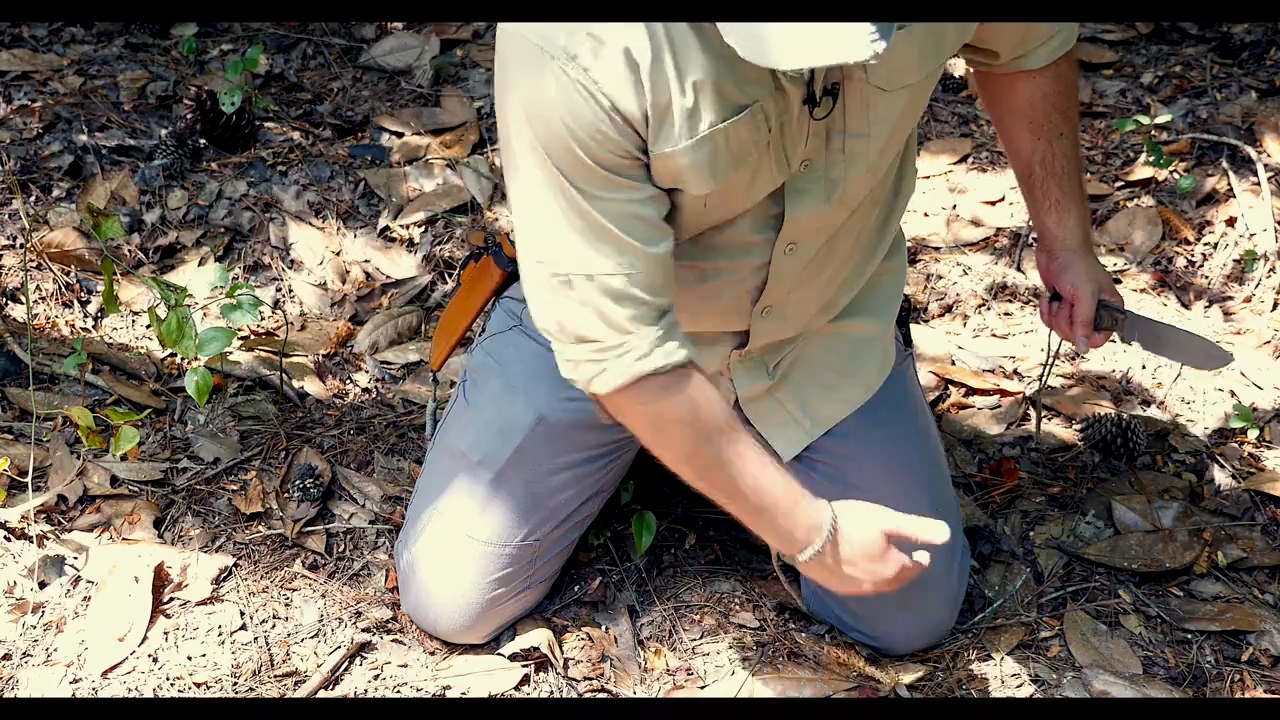knife: (1030, 277, 1247, 382)
